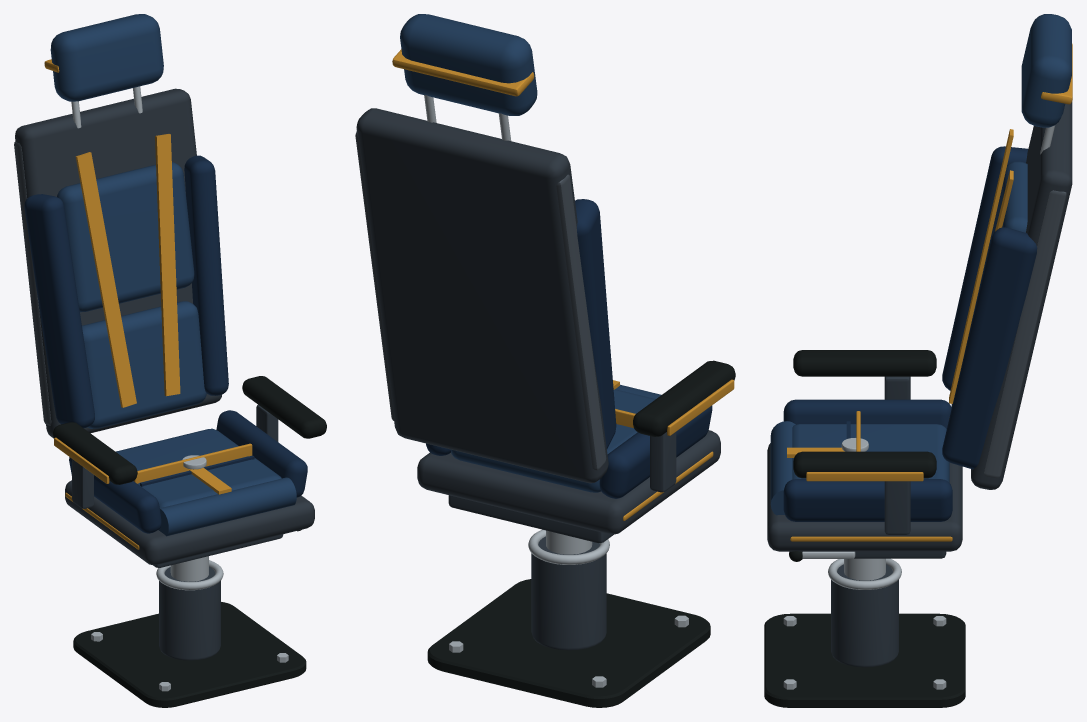
3 renders of one model, left to right at view 1: azimuth 30°, elevation 25°; view 2: azimuth 150°, elevation 25°; view 3: azimuth 270°, elevation 25°, orthographic. The views are drawn at different scales.
Visible parts, largest first — view 1: sub_pilot_seat; view 2: sub_pilot_seat; view 3: sub_pilot_seat.
Boxes of the visible parts, bbox=[...] form: sub_pilot_seat: bbox=[14, 14, 326, 707]; sub_pilot_seat: bbox=[355, 14, 735, 707]; sub_pilot_seat: bbox=[764, 14, 1072, 707].
Bounding box in the file's own units: 0.8579 × 2.14 × 0.949.
